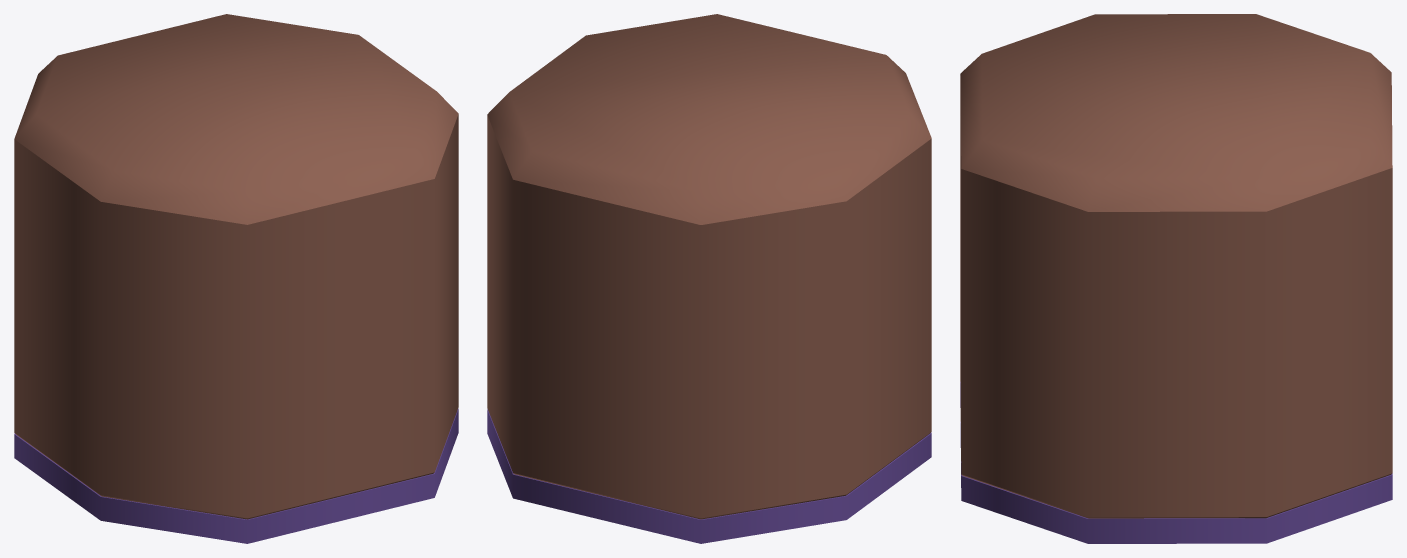
Rendered from arriba.fbx.
3 views of the same model, side by side, from view 1: azimuth 30°, elevation 25°; view 2: azimuth 150°, elevation 25°; view 3: azimuth 270°, elevation 25° (orthographic). The views are drawn at different scales.
Parts seen in each view (by area): view 1: Cabeza, Circle.004; view 2: Cabeza, Circle.004; view 3: Cabeza, Circle.004.
Part boxes in pixels (<box>): Cabeza: <box>14,14,458,519</box>; Circle.004: <box>14,408,458,543</box>; Cabeza: <box>487,14,931,519</box>; Circle.004: <box>487,409,931,543</box>; Cabeza: <box>960,14,1392,518</box>; Circle.004: <box>960,382,1392,543</box>.
Bounding box in the file's own units: 259 × 237 × 259.
